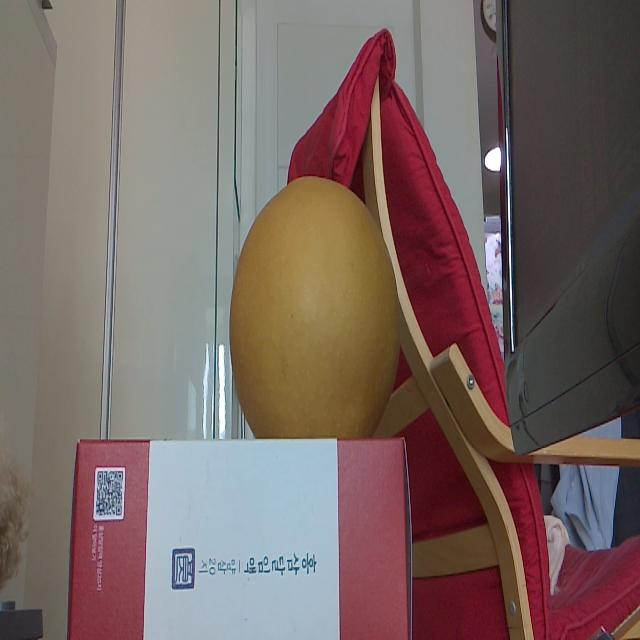pear: (230, 176, 402, 438)
